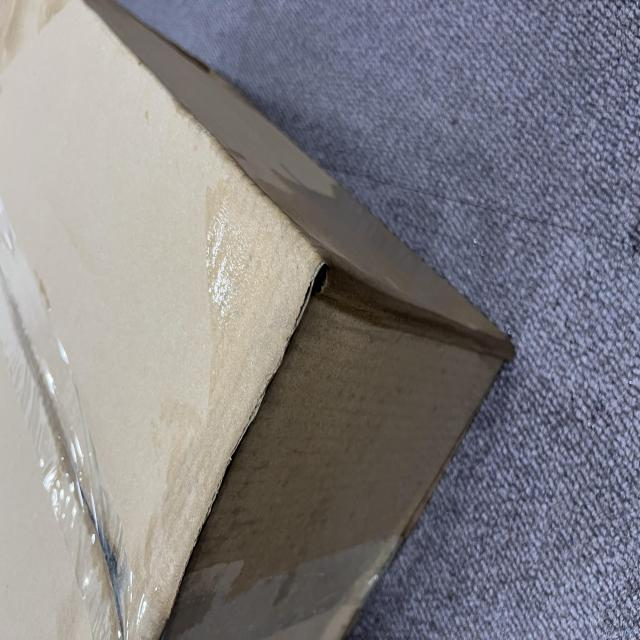wet: (15, 199, 382, 640)
